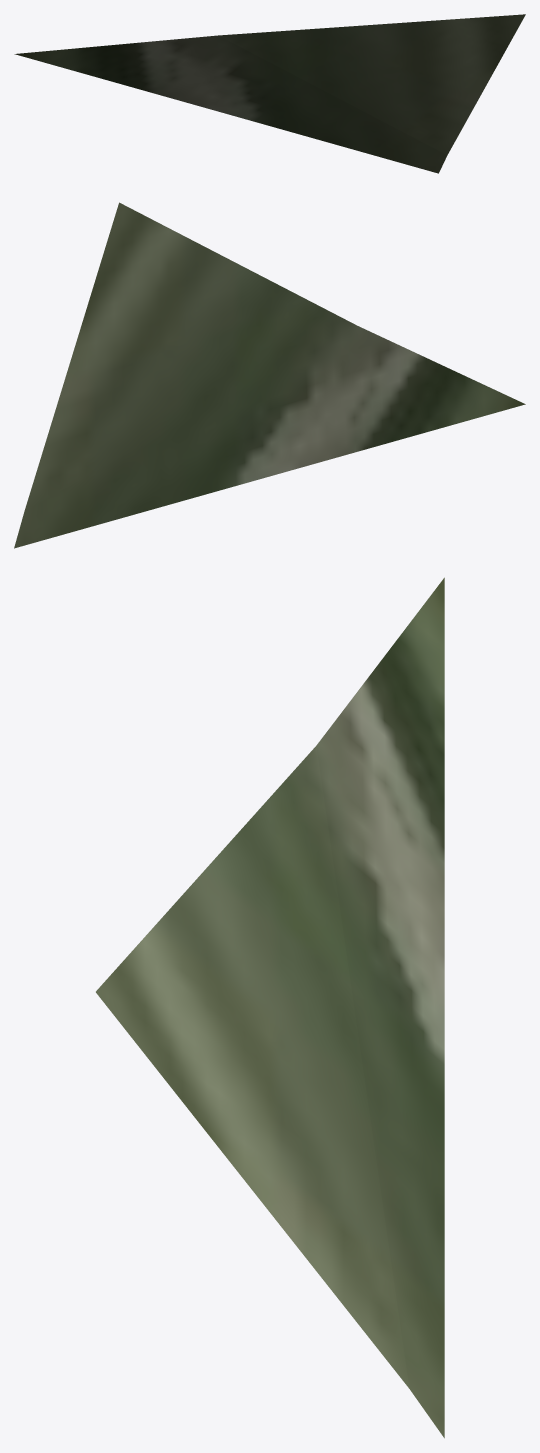
3 views of the same model, one above another, from view 1: azimuth 30°, elevation 25°; view 2: azimuth 150°, elevation 25°; view 3: azimuth 270°, elevation 25° (orthographic). The views are drawn at different scales.
Bounding box in the file's own units: 0.563 × 0.2828 × 0.2003.
Materials: 1 (1 with a texture image).
